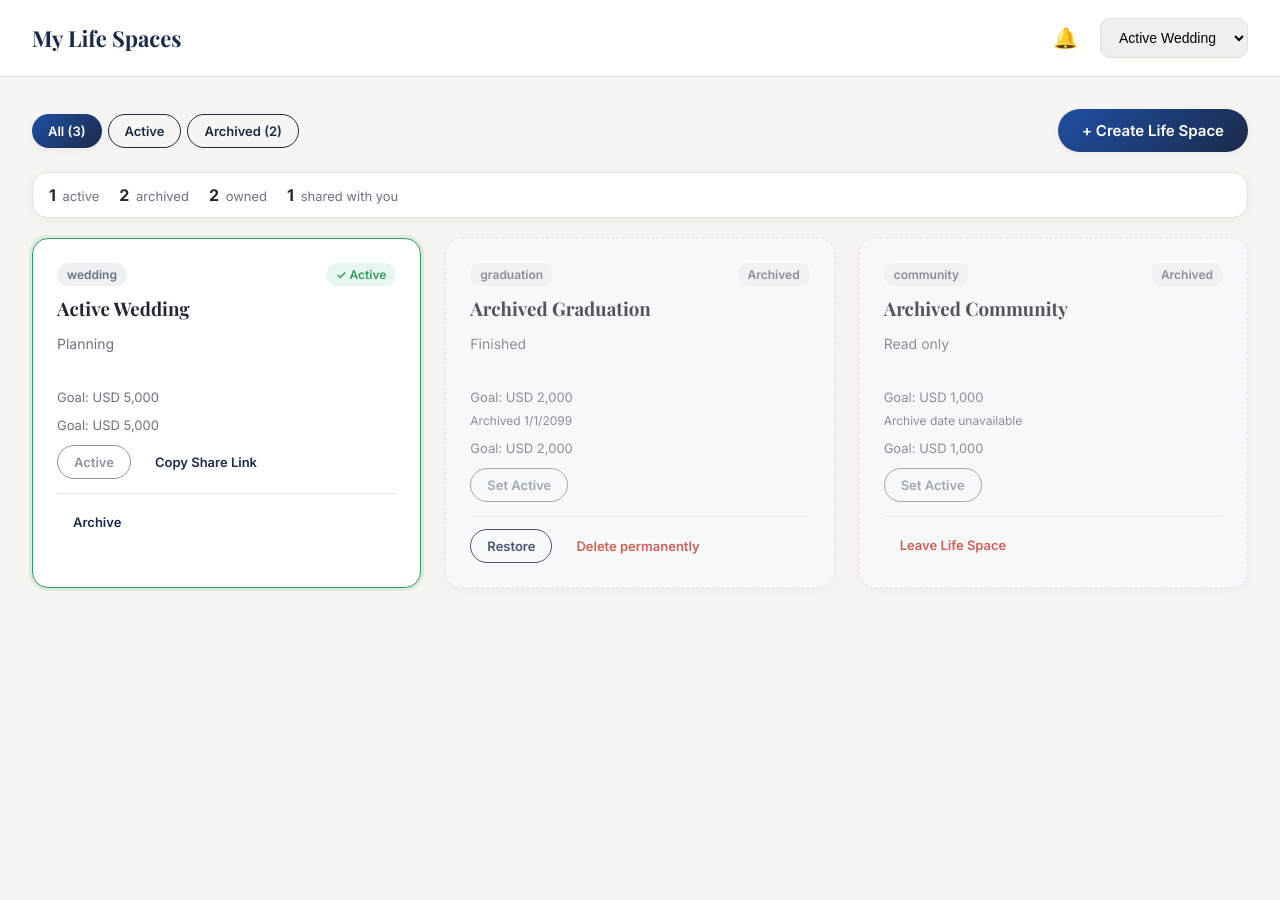
Life Space archive and restore actions › reports an archive failure without hiding the card
Step 1. Click the button "Archive" → click(97, 522), box 57,506 -> 137,538
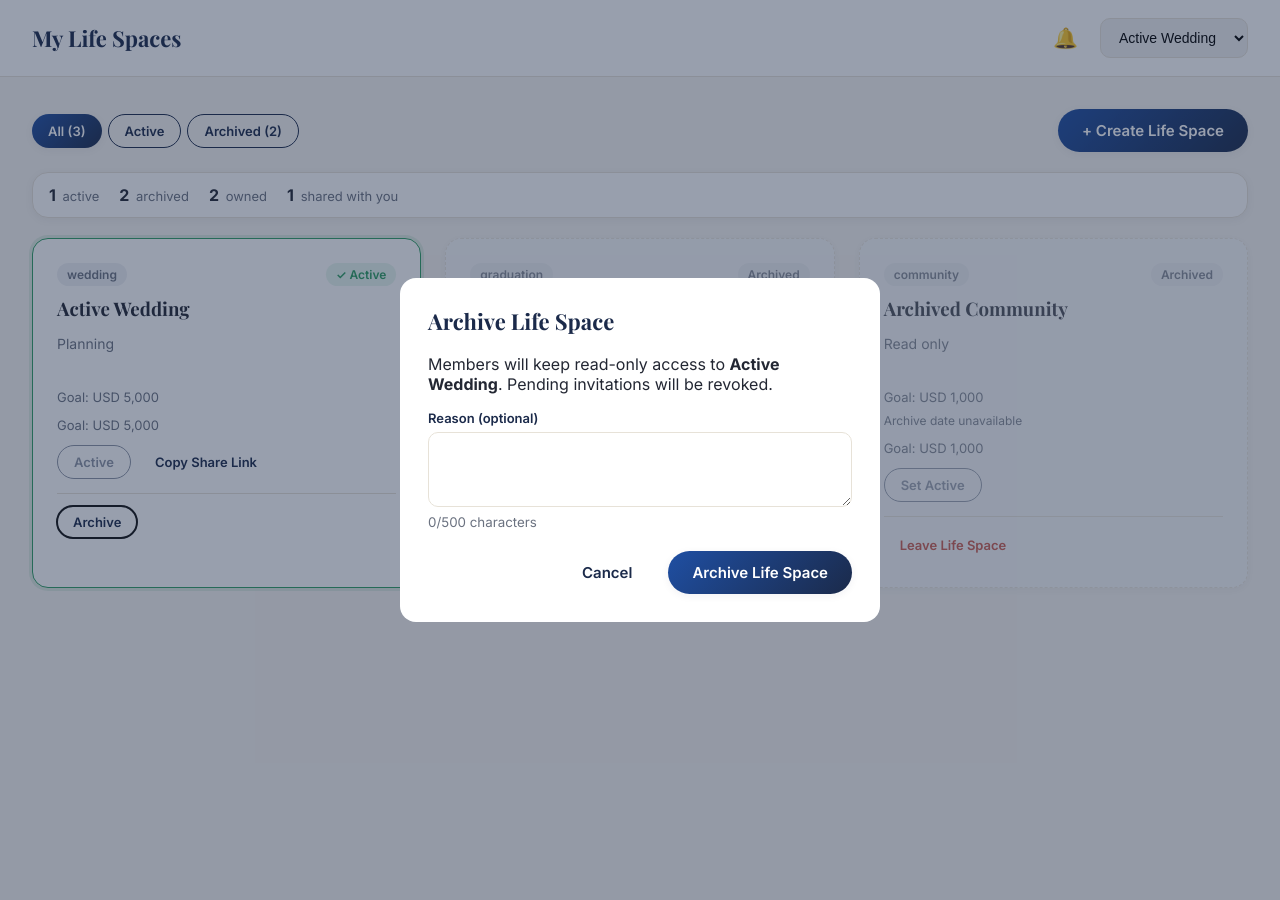
Step 2. Click the button "Archive Life Space" → click(760, 573), box 668,551 -> 852,594
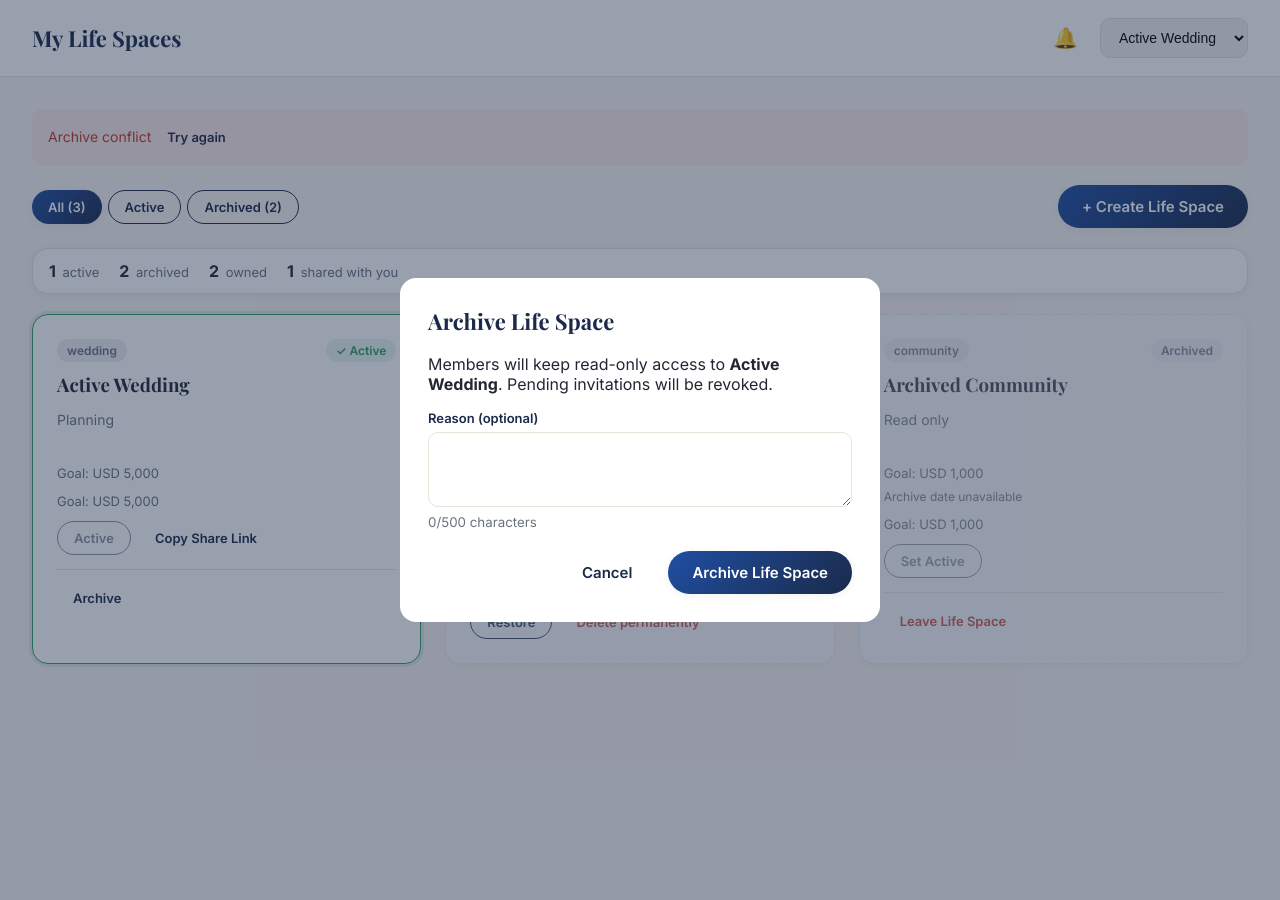
Expected: the heading "Active Wedding" is shown, 57,372 -> 190,397
Result: the message shows "Archive conflict" at 48,128 -> 151,145
